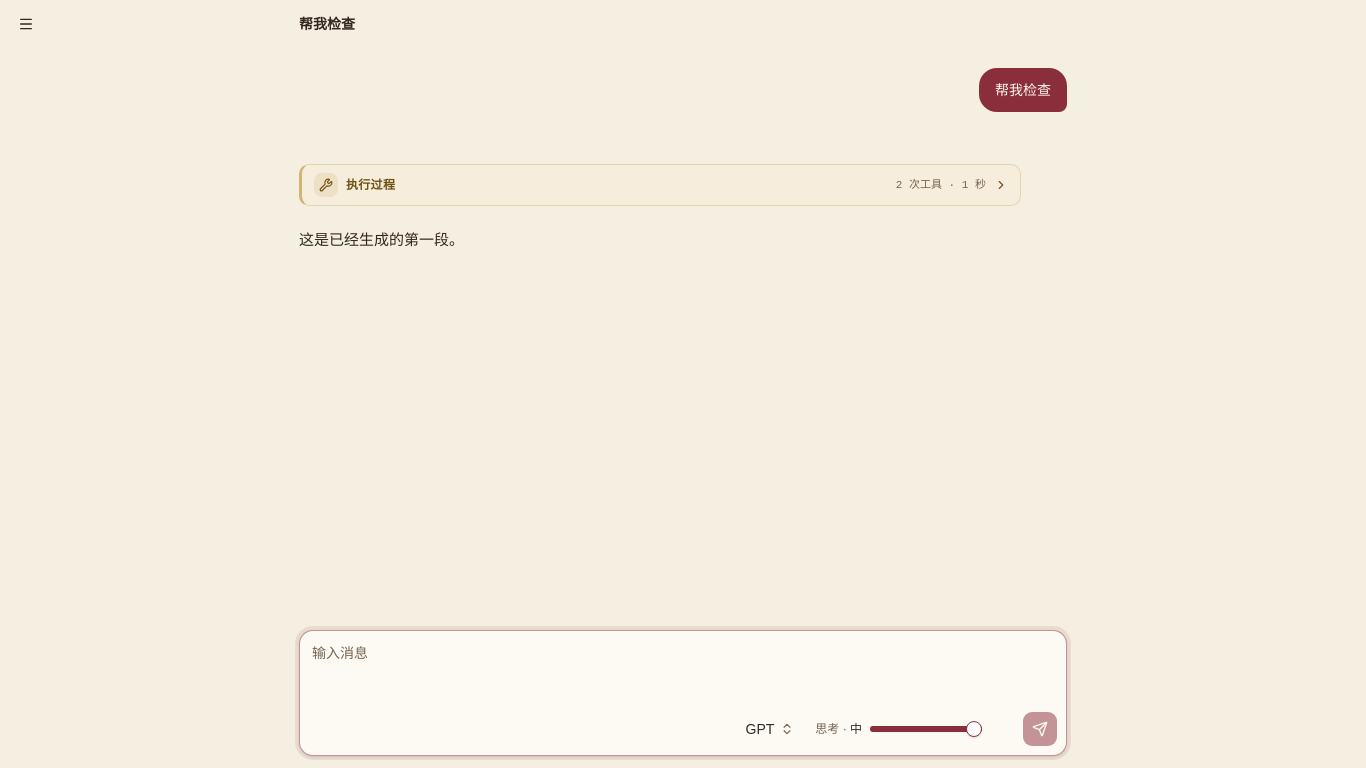
Test case: ChatPage 窄屏会话抽屉 › 窄屏下侧栏收起为抽屉，唤出后选择会话自动关闭
This screenshot has width=1366, height=768.
Expected: the dialog "会话列表" is not shown
Click the button named "打开会话列表" at (26, 24), box [8,6,44,42]
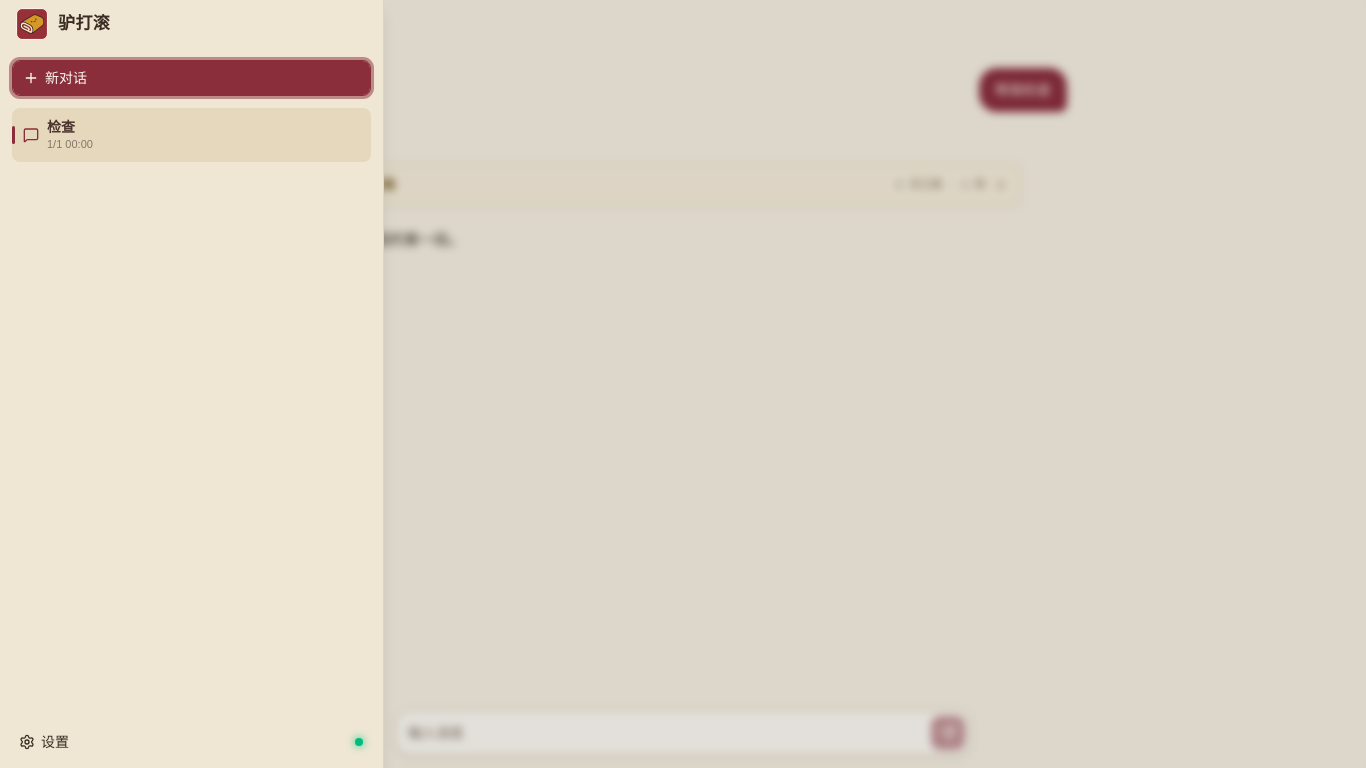
Click the button with aria-label "打开会话：检查" at (70, 144), box [12,108,371,162]
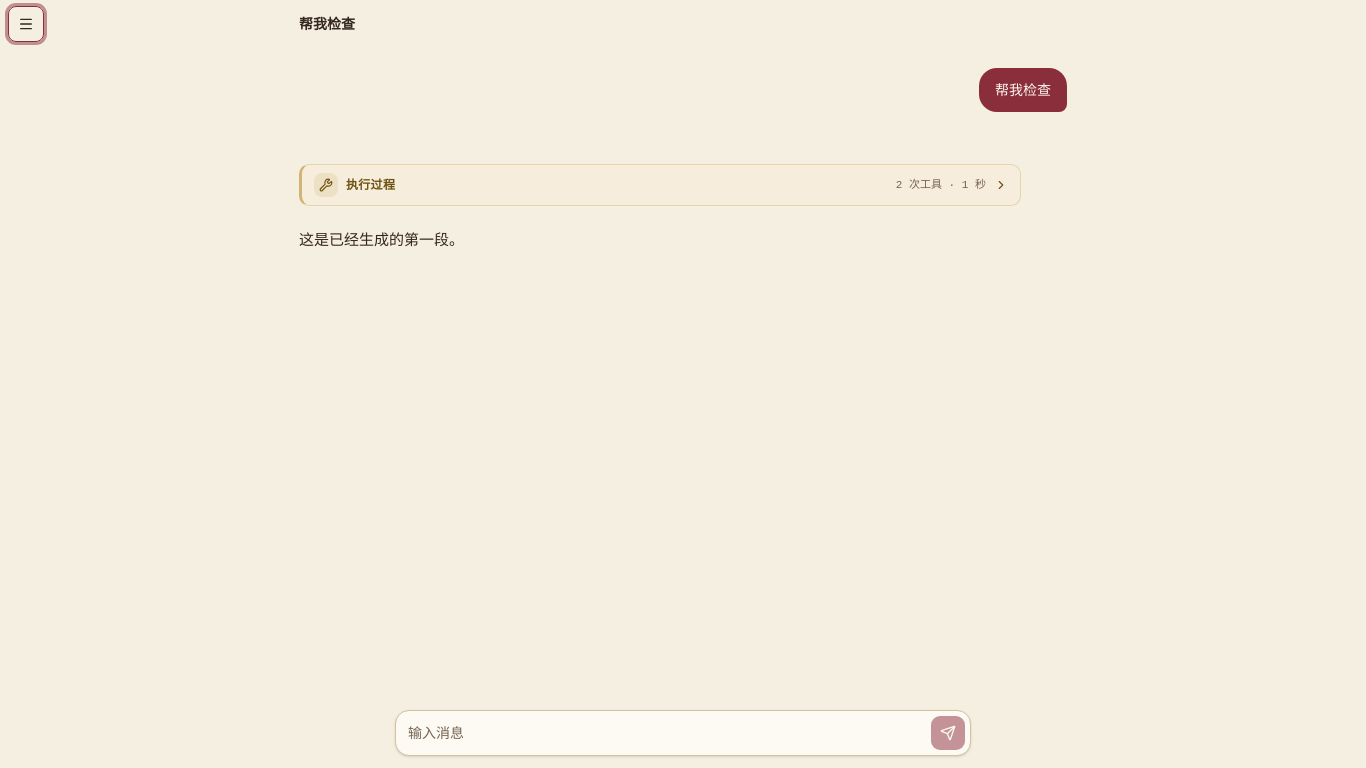
Result: the navigation bar "会话列表" is gone
